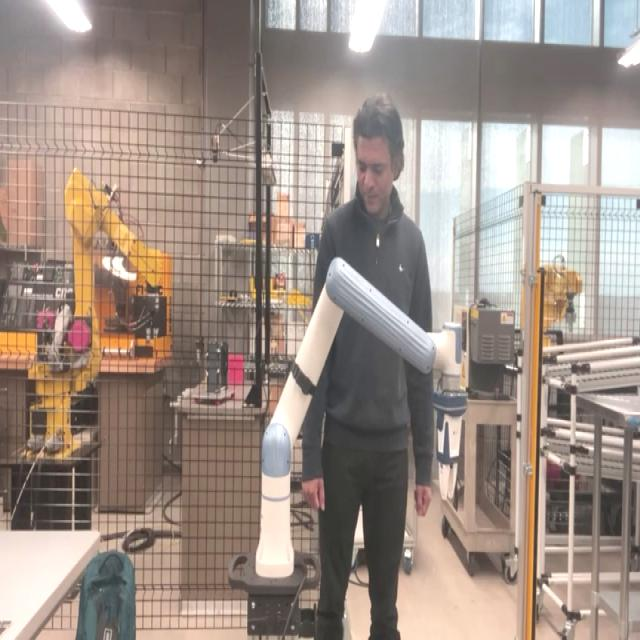robot: (247, 247, 471, 600)
